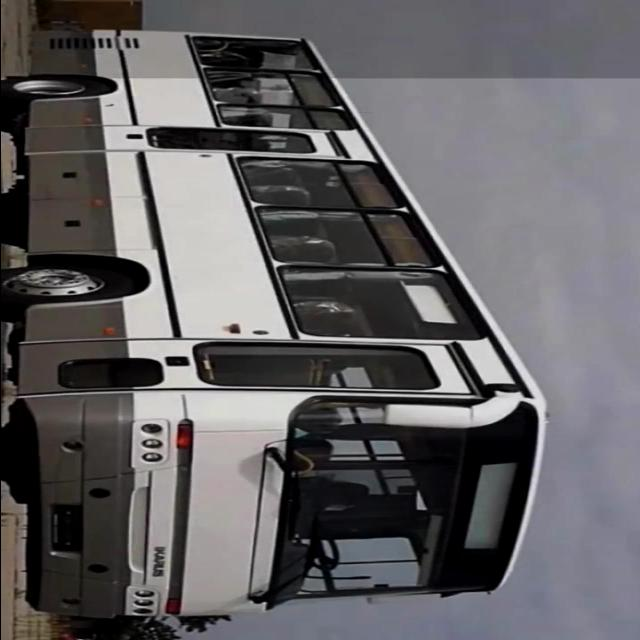bus: (1, 29, 551, 623)
